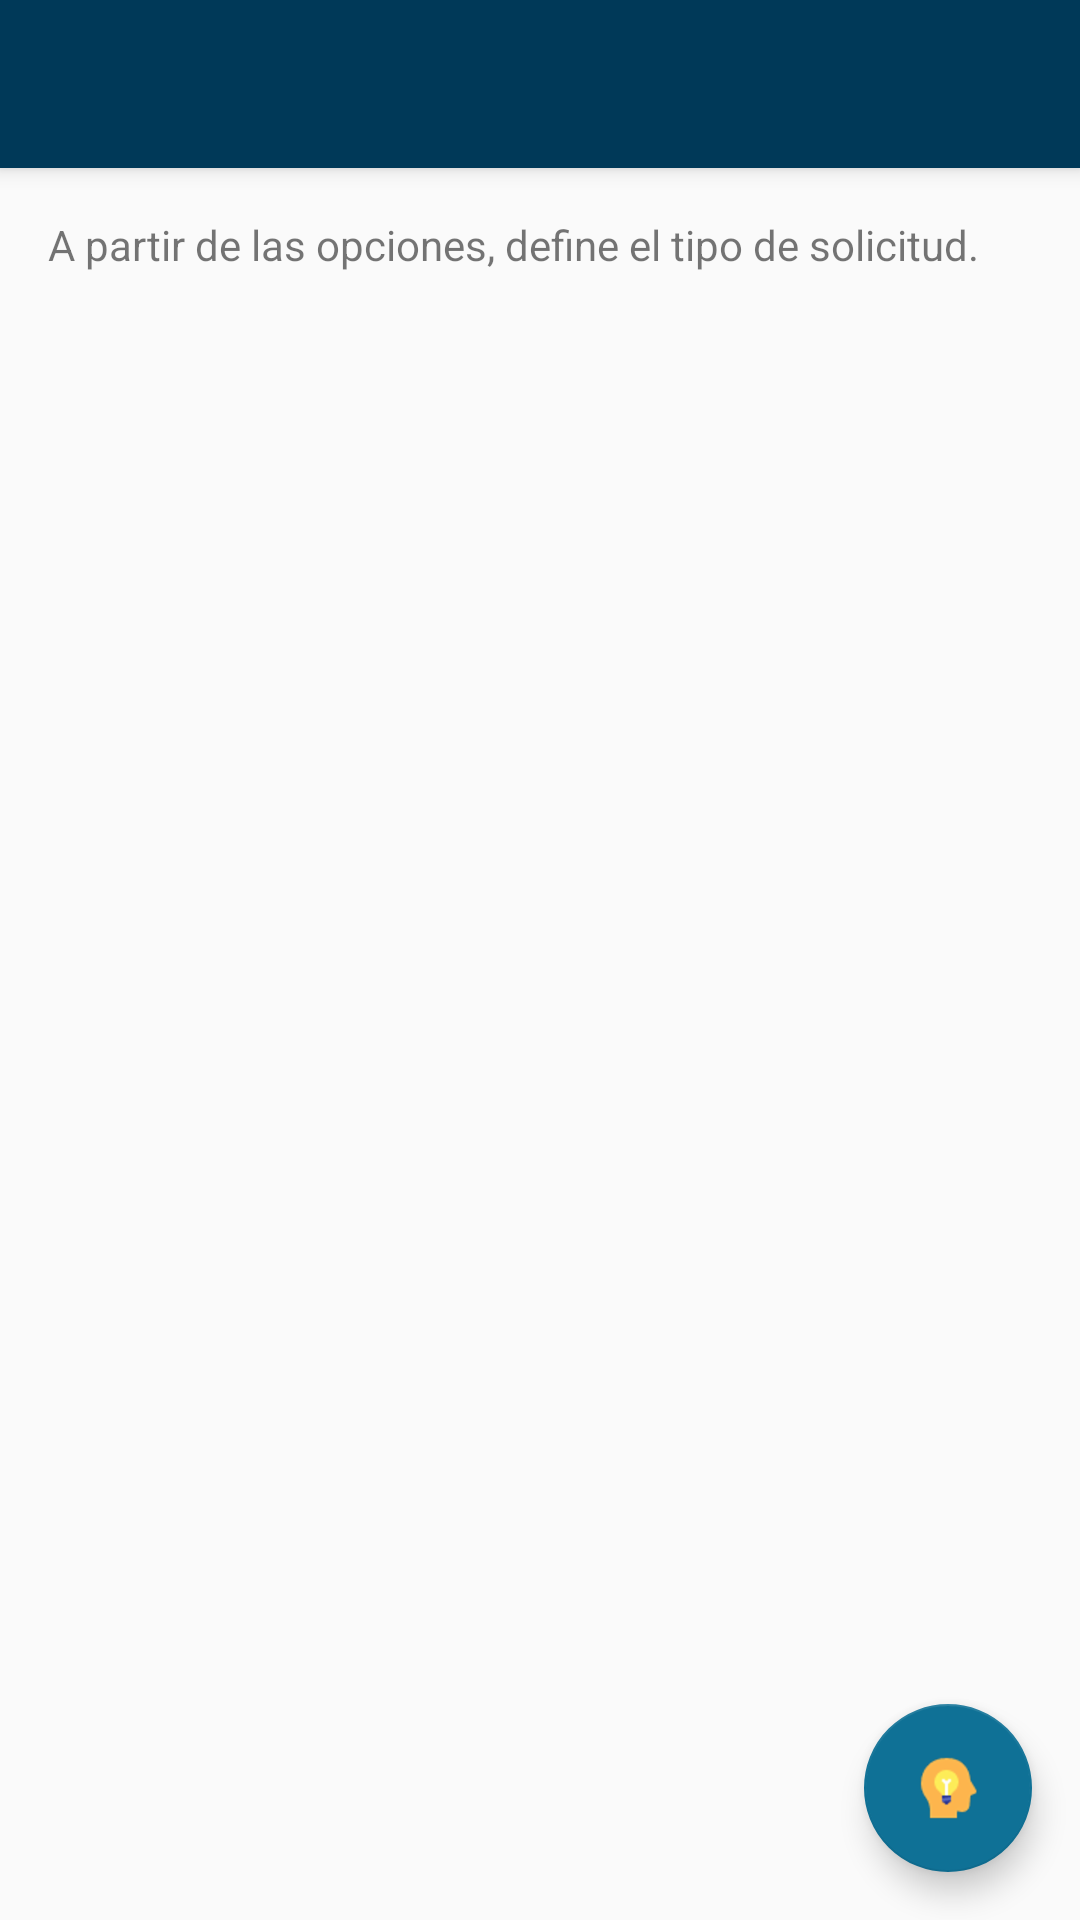

Screen size 1080×1920. Icon name, then its box in pixels as (x1, y1, x2, y2):
ima help asistente: (864, 1704, 1032, 1872)
